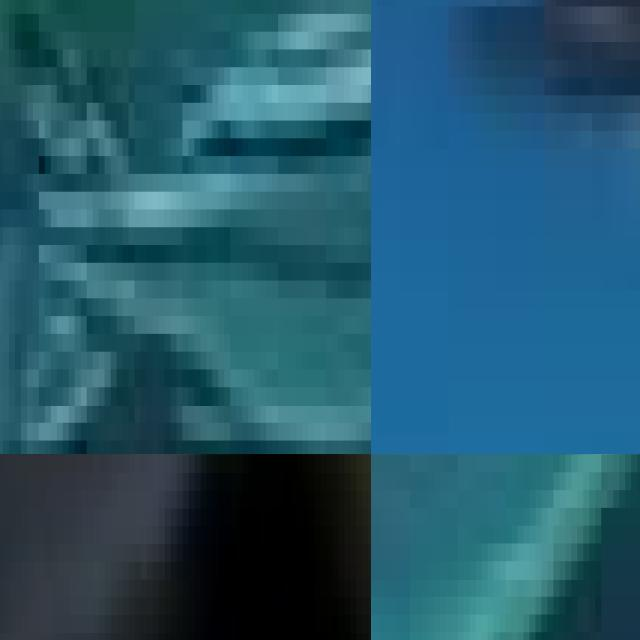fish: (0, 0, 371, 454), (371, 454, 640, 640)
